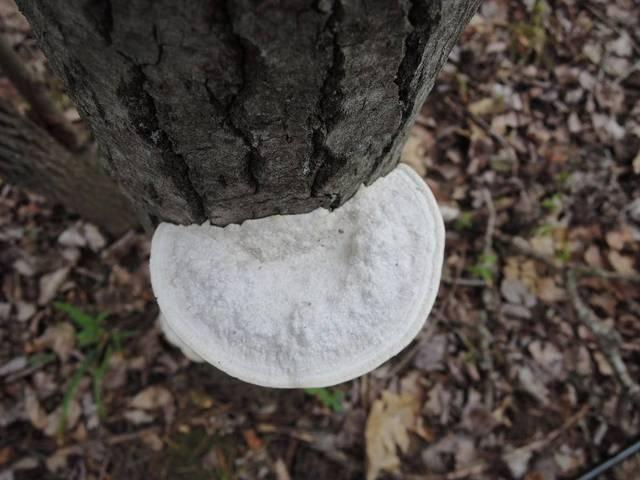poisonous_mushroom: (147, 161, 447, 390)
